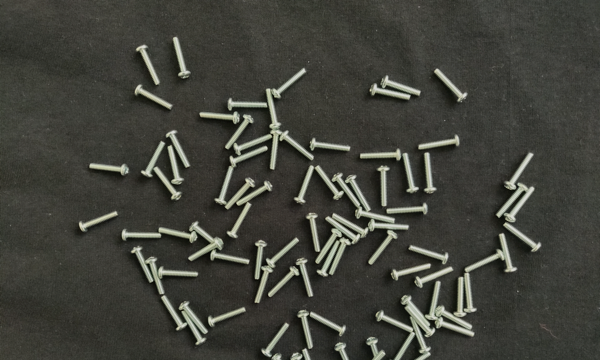longscrew: (501, 221, 543, 254), (501, 151, 535, 191), (495, 182, 530, 220), (434, 67, 469, 104), (134, 44, 163, 87), (271, 67, 308, 100), (504, 186, 536, 224), (367, 230, 399, 267), (314, 164, 345, 202), (279, 131, 317, 162), (345, 173, 374, 213), (404, 305, 437, 340), (265, 237, 300, 270), (165, 129, 193, 170), (224, 114, 255, 151), (332, 172, 362, 210), (134, 84, 174, 112), (189, 220, 224, 252), (463, 249, 506, 275), (325, 215, 361, 246), (152, 166, 183, 202), (260, 322, 290, 359), (179, 300, 209, 336), (314, 229, 343, 266), (310, 311, 348, 339), (314, 240, 342, 278), (226, 202, 254, 240), (267, 267, 300, 299), (224, 178, 256, 211), (401, 295, 432, 329), (374, 310, 416, 335), (161, 295, 188, 333), (140, 140, 167, 178), (331, 213, 370, 239), (181, 310, 208, 347), (413, 266, 456, 289), (380, 75, 423, 98), (236, 181, 274, 207), (408, 244, 450, 267), (78, 210, 120, 233), (188, 237, 225, 263), (130, 245, 154, 285), (436, 306, 474, 331), (434, 317, 477, 339), (329, 237, 352, 278), (292, 165, 315, 206), (229, 145, 270, 168), (144, 256, 167, 297), (408, 316, 432, 355), (232, 134, 274, 156), (171, 36, 192, 80), (253, 265, 275, 306), (214, 165, 236, 206), (498, 233, 519, 275), (369, 83, 412, 103), (208, 307, 248, 328), (296, 310, 316, 351), (295, 258, 315, 299), (389, 262, 432, 281), (401, 152, 420, 195), (264, 87, 282, 132), (417, 134, 461, 152), (389, 332, 417, 360), (166, 145, 185, 186), (425, 281, 443, 323), (355, 207, 397, 225), (210, 249, 251, 267), (158, 226, 199, 244), (422, 152, 439, 195), (309, 136, 352, 153), (268, 129, 285, 172), (306, 212, 322, 254), (359, 147, 402, 162), (89, 162, 131, 177), (386, 202, 430, 216), (463, 273, 478, 314), (198, 111, 241, 125), (157, 266, 200, 280), (226, 98, 268, 112), (121, 228, 163, 242), (254, 240, 268, 281), (367, 220, 411, 233), (377, 165, 390, 209), (454, 277, 467, 318), (365, 337, 387, 360), (333, 342, 358, 360), (354, 350, 388, 360), (395, 352, 432, 360), (300, 348, 324, 360), (271, 354, 303, 360), (290, 354, 312, 360)
